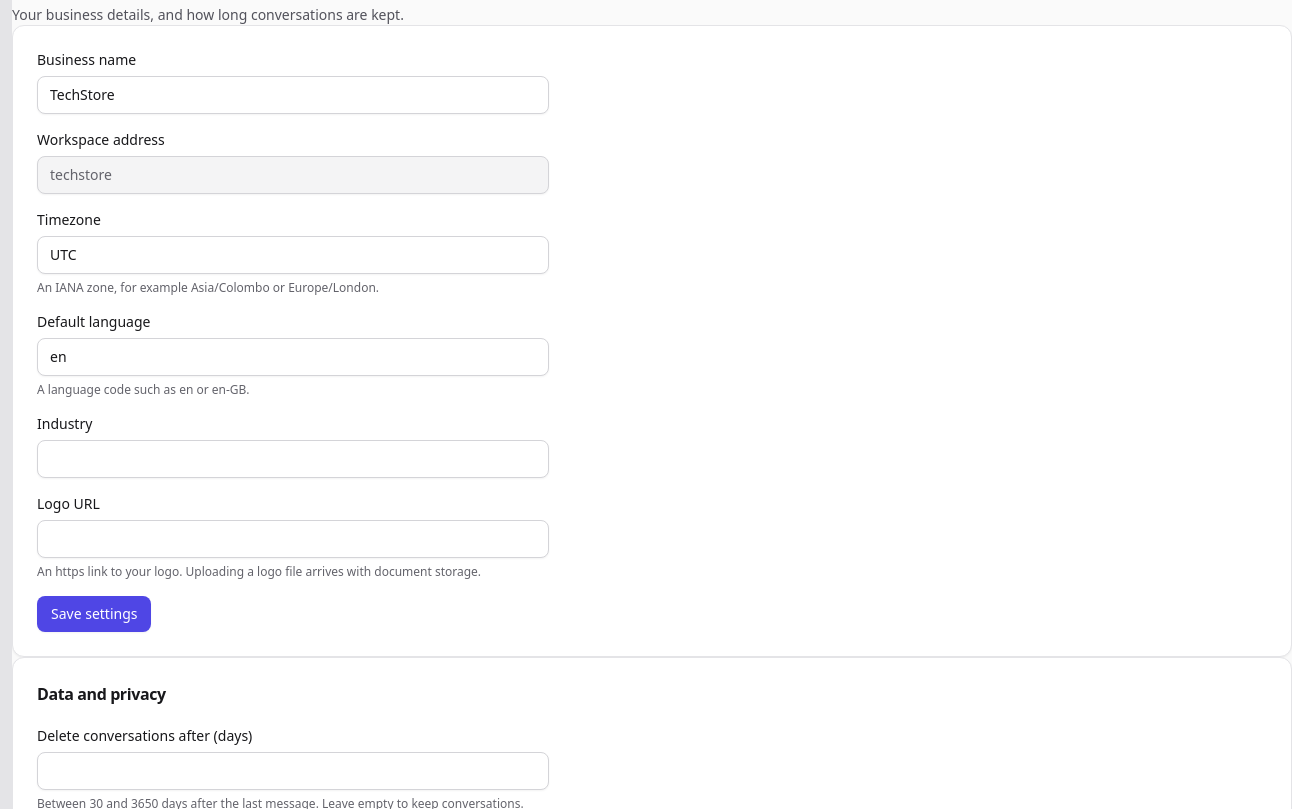
data and privacy settings › lets an owner set a retention period within range
In the field labelled "Delete conversations after (days)": coordinates (293, 771) [37,752,549,790], type "7"
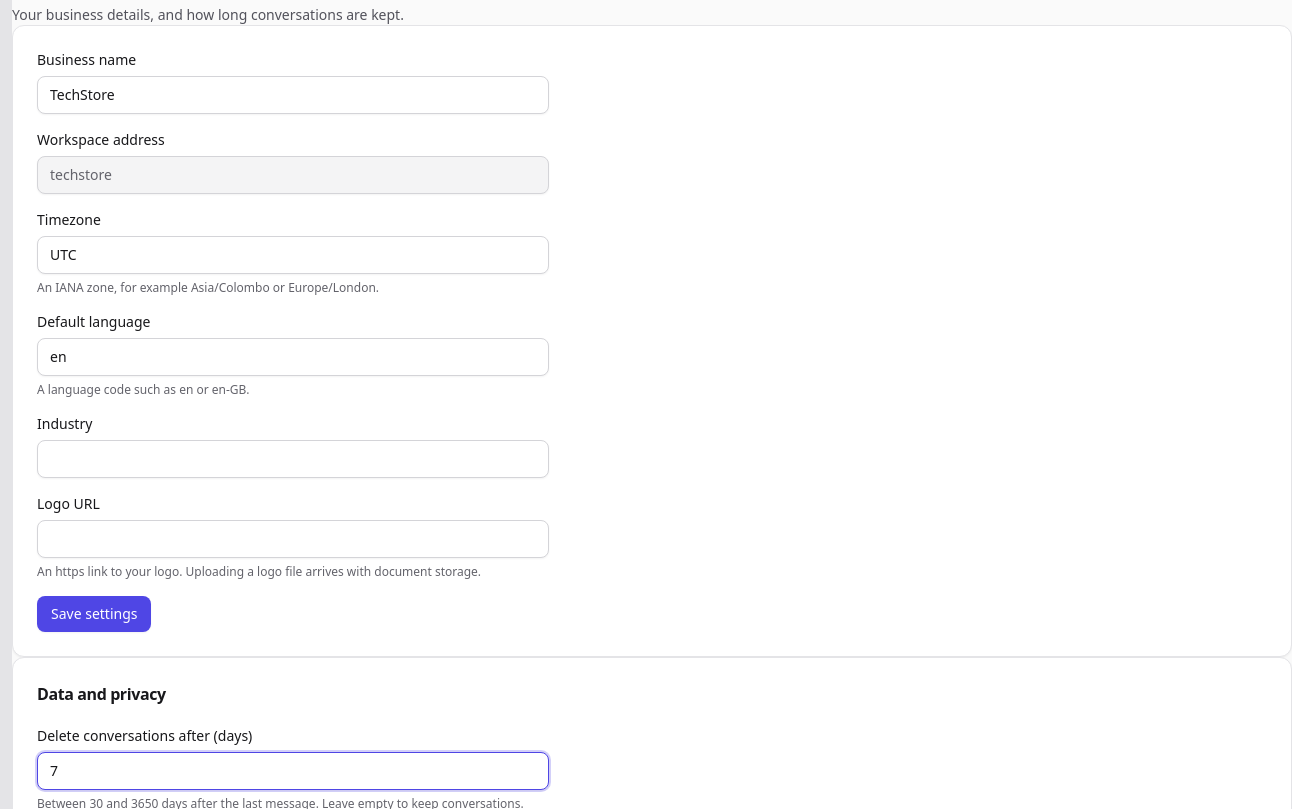
Replace the text in the field labelled "Delete conversations after (days)" with "90": coordinates (293, 771) [37,752,549,790]
(page scrolled)
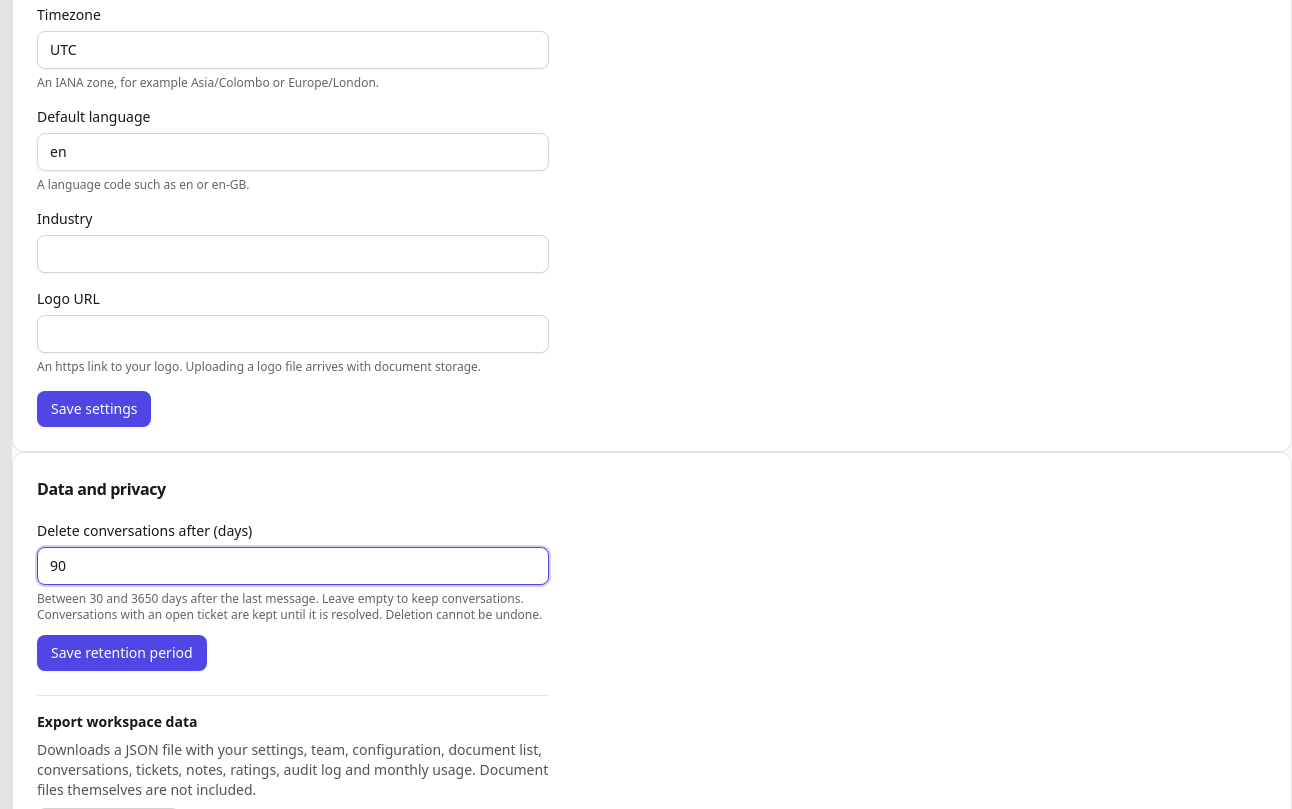
Click the button "Save retention period": coordinates (122, 653) [37,635,207,671]
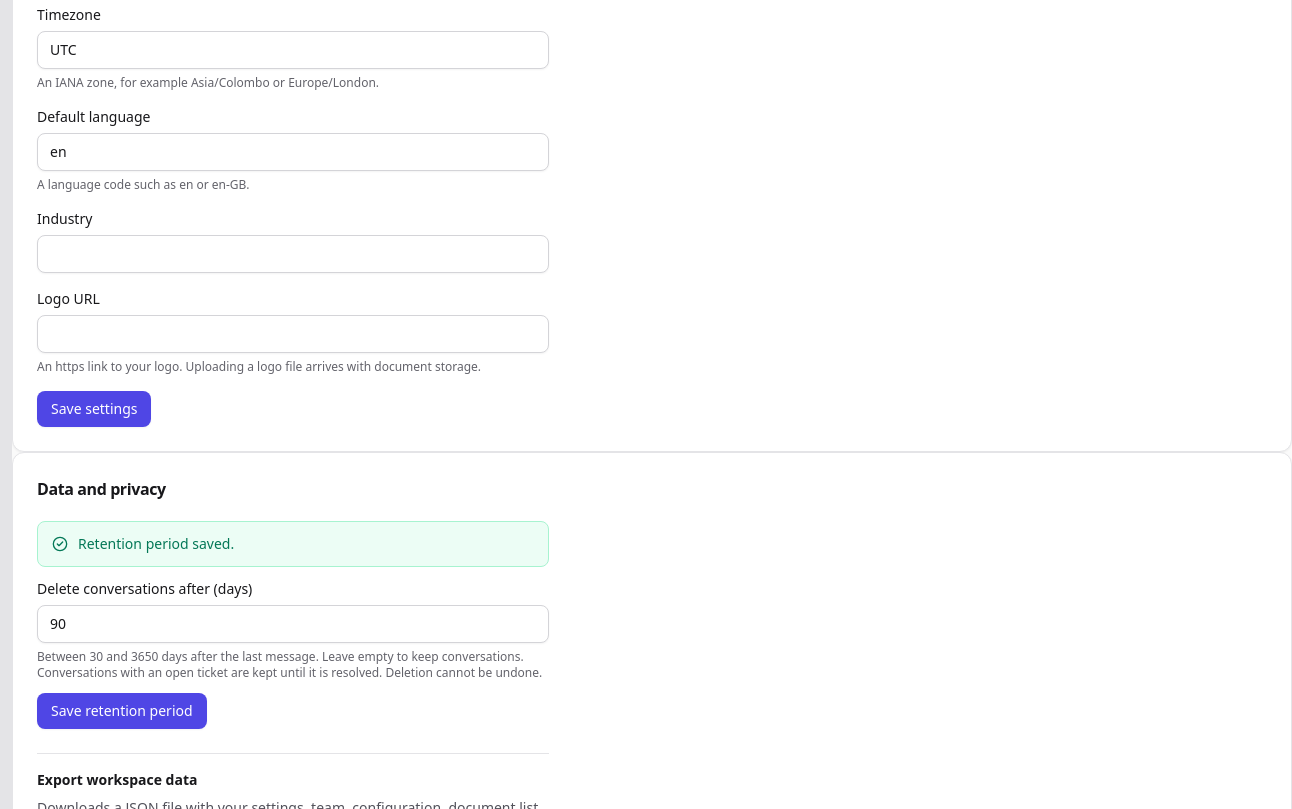
Expected: the text "Retention period saved." is shown, [78,534,234,553]
